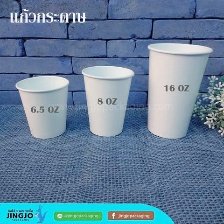paper_cup: (142, 39, 216, 140), (78, 61, 138, 138), (11, 72, 73, 142)
